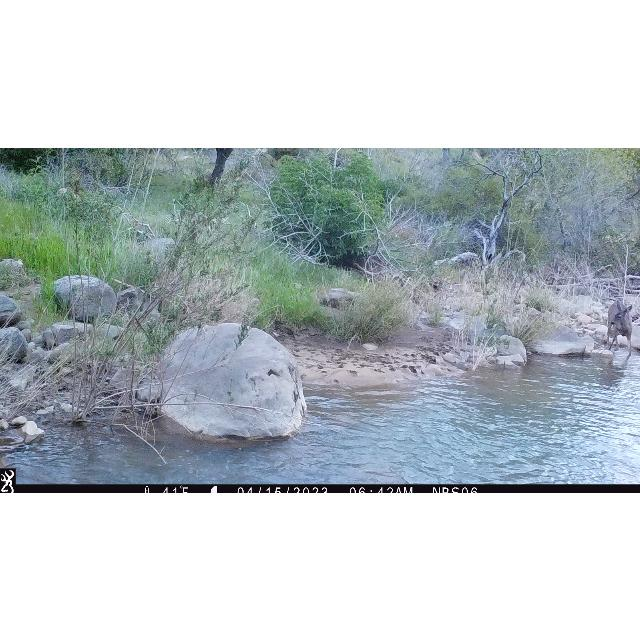animals: (607, 298, 633, 358)
